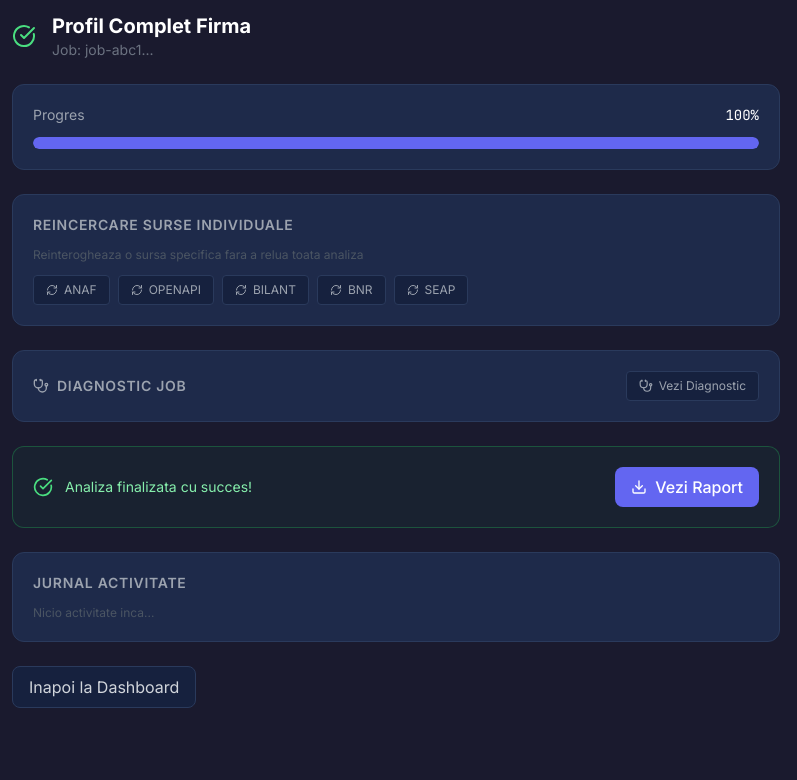
AnalysisProgress — Diagnostic Job › click pe buton apeleaza api.getJobDiagnostics cu id-ul jobului si randeaza continutul
Click the button "Vezi Diagnostic" at (692, 386), box [626,371,759,401]
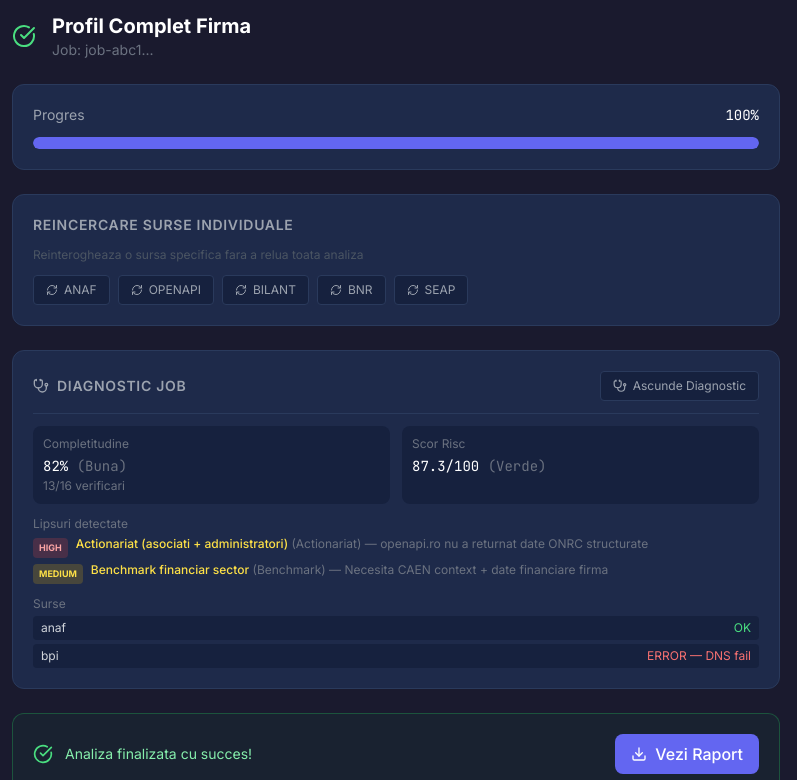
Now the text "82% (Buna)" is shown, box [43,457,127,475]
Now the text "(Buna)" is shown, box [77,457,127,475]
Now the text "Actionariat (asociati + administratori)" is shown, box [76,536,288,551]
